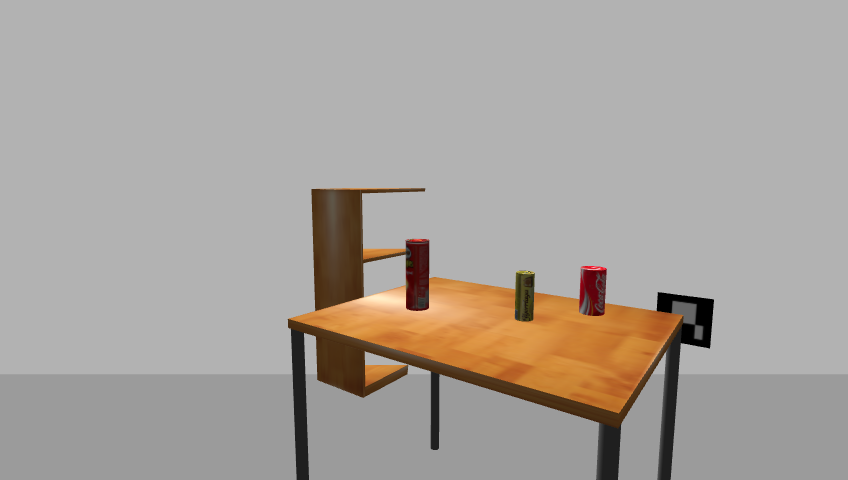aruco marker: (652, 290, 718, 351)
biscuits pack: (514, 271, 535, 323)
bookshelf: (306, 184, 431, 402)
coke can: (579, 265, 608, 317)
dinner table: (282, 279, 694, 480)
pringles can: (403, 238, 432, 313)
